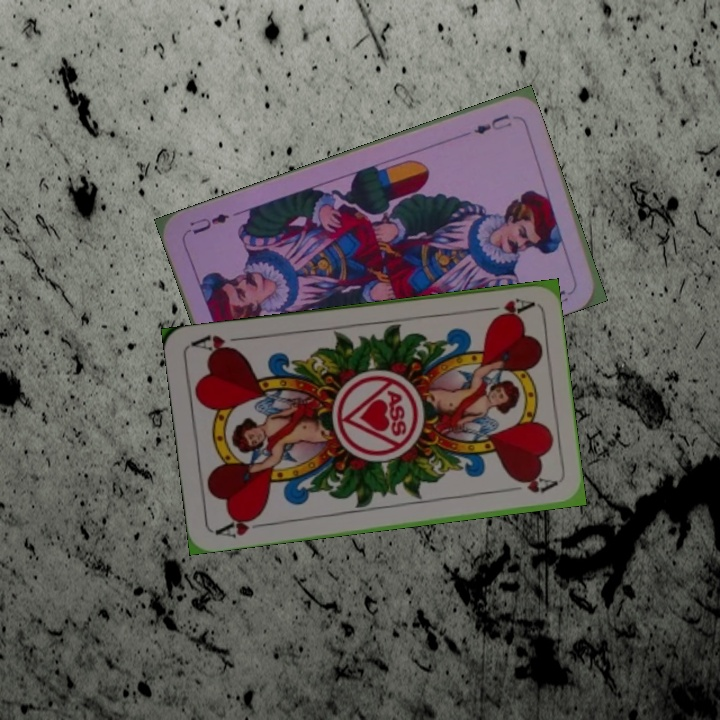EU: (469, 110, 515, 137)
HA: (211, 510, 270, 541), (476, 294, 535, 321)
